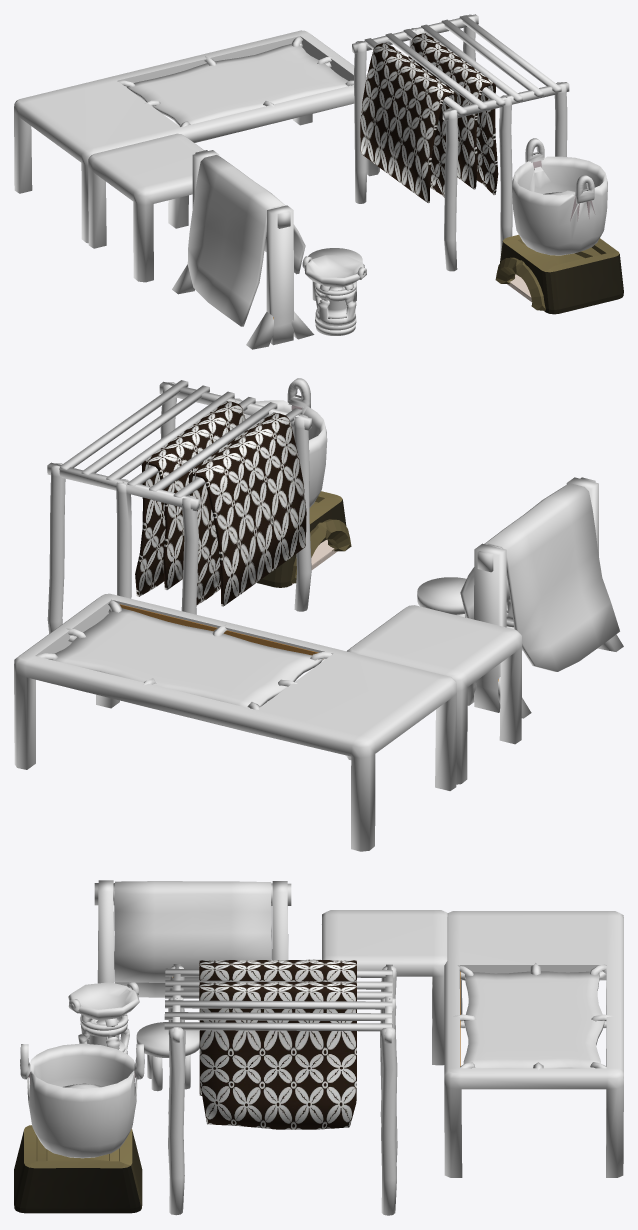
Rendered from Workspace lv2.fbx.
The picture shows the model from 3 angles, top to bottom: view 1: azimuth 30°, elevation 25°; view 2: azimuth 150°, elevation 25°; view 3: azimuth 270°, elevation 25°; orthographic projection. The views are drawn at different scales.
Visible parts, largest first — view 1: Cube.001, kain batik, Plane.006, Plane.001, Cube, Sphere, Cube.006, tungku, Plane.002, Cube.002, Cube.007, Cylinder.001 (+3 smaller); view 2: Cube.001, kain batik, Plane.006, Plane.001, Cube, Cube.006, Plane.002, Cube.007, Cube.002, tungku, Sphere, kursi kecil (+1 smaller); view 3: Cube.001, Plane.002, kain batik, Plane.001, Sphere, Cube, tungku, Cube.007, Cube.006, Plane.006, Cube.002, Sphere.001 (+3 smaller).
Part boxes in pixels (x1,y1,x2,y2): Cube.001: (14,30,379,243); kain batik: (187,155,305,326); Plane.006: (360,42,457,203); Plane.001: (127,44,347,126); Cube: (88,133,204,282); Sphere: (512,138,607,255); Cube.006: (352,14,569,271); tungku: (495,234,623,314); Plane.002: (408,33,498,194); Cube.002: (172,150,314,349); Cube.007: (364,15,561,115); Cylinder.001: (315,282,356,335); Cube.001: (14,593,456,851); kain batik: (460,483,619,671); Plane.006: (188,412,306,606); Plane.001: (51,608,322,708); Cube: (346,605,522,784); Cube.006: (47,381,311,633); Plane.002: (135,401,247,596); Cube.007: (60,380,302,497); Cube.002: (467,477,623,718); tungku: (257,491,351,587); Sphere: (244,378,327,507); kursi kecil: (417,577,466,617); Cube.001: (444,911,623,1177); Plane.002: (199,981,356,1129); kain batik: (114,881,271,997); Plane.001: (463,971,604,1068); Sphere: (20,1043,144,1158); Cube: (321,910,447,1065); tungku: (14,1125,142,1213); Cube.007: (164,968,392,1031); Cube.006: (168,964,397,1215); Plane.006: (199,959,356,981); Cube.002: (97,880,288,983); Sphere.001: (68,982,139,1020).
Bounding box in the file's own units: 877 × 389 × 1097.
10 materials, 5 textured.
